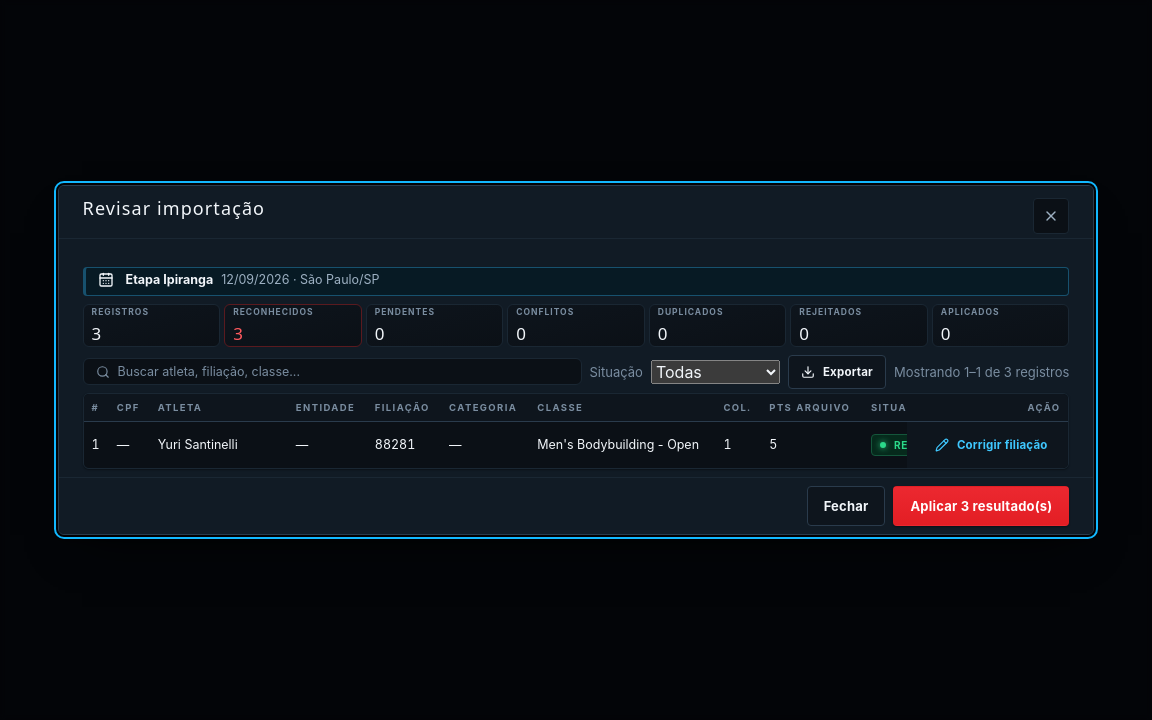
Test: B6 — a confirmação diz o destino da publicação › o diálogo de aprovação nomeia o evento
Click the button "Aplicar 3 resultado(s)": (981, 506) [893,486,1069,526]
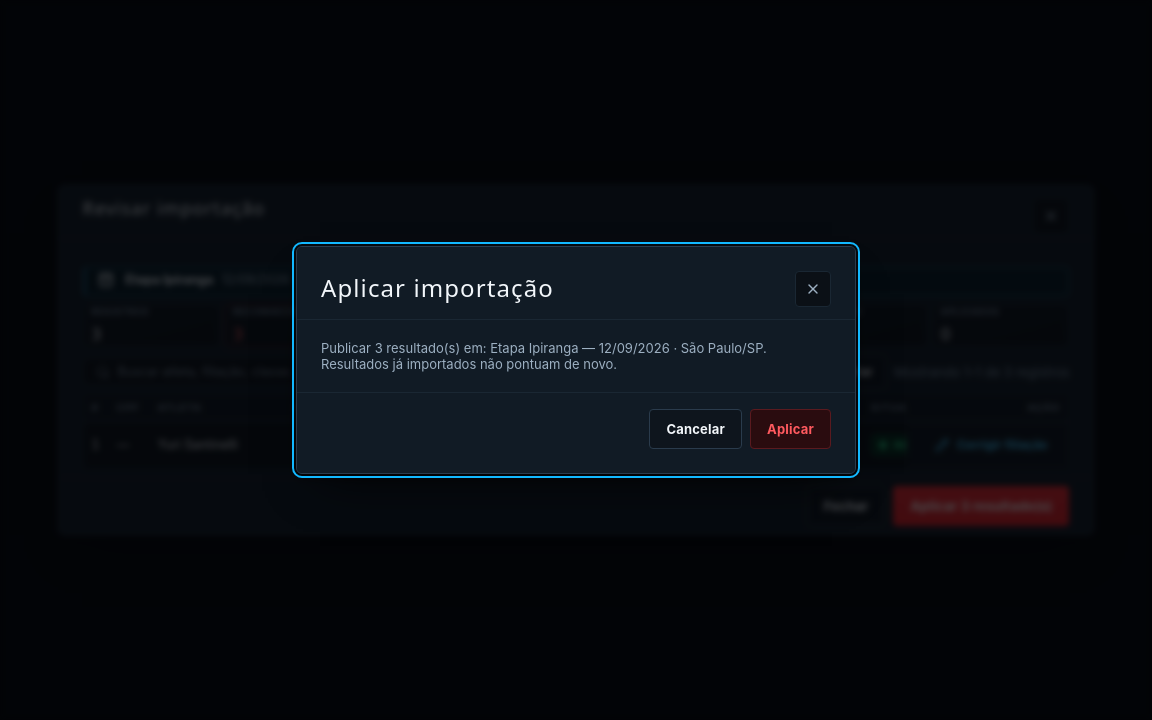
Result: the dialog "Aplicar importação" shows "Etapa Ipiranga" at [321,340,767,372]
Result: the dialog "Aplicar importação" shows "12/09/2026" at [321,340,767,372]
